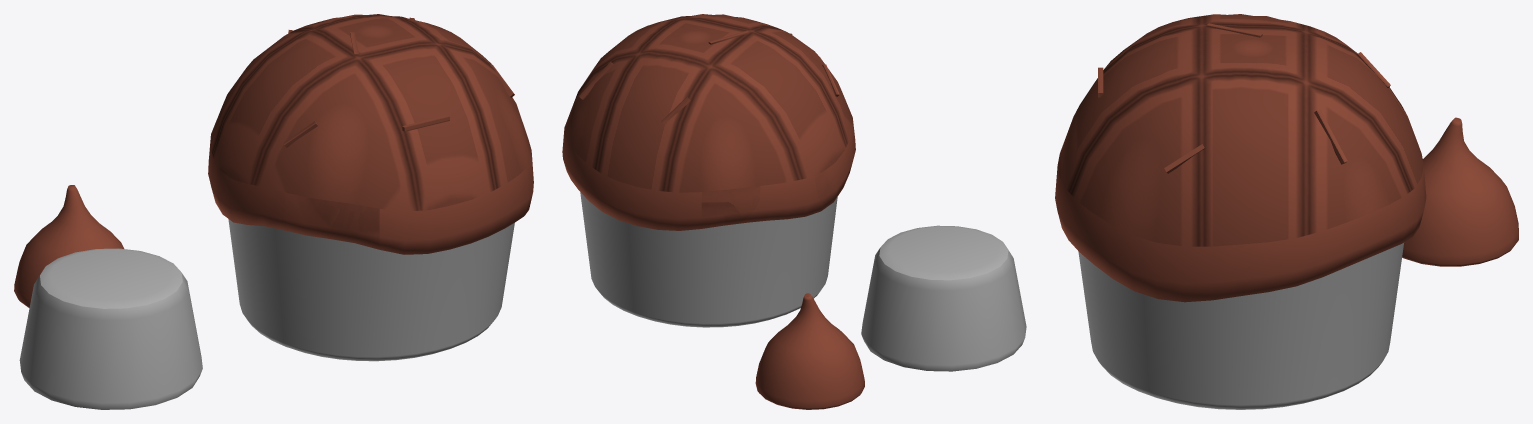
Rendered from muffins.fbx.
The picture shows the model from 3 angles, left to right: view 1: azimuth 30°, elevation 25°; view 2: azimuth 150°, elevation 25°; view 3: azimuth 270°, elevation 25°; orthographic projection. The views are drawn at different scales.
Visible parts, largest first — view 1: pCylinder32, pCylinder10, pCylinder33; view 2: pCylinder32, pCylinder10, pCylinder33; view 3: pCylinder32, pCylinder33.
Boxes of the visible parts, x1,y1,x2,y2 form: pCylinder32: [208, 14, 533, 361]; pCylinder10: [19, 248, 202, 409]; pCylinder33: [14, 185, 124, 307]; pCylinder32: [562, 14, 855, 327]; pCylinder10: [861, 225, 1026, 371]; pCylinder33: [755, 293, 864, 409]; pCylinder32: [1055, 14, 1426, 409]; pCylinder33: [1402, 117, 1518, 266].
Size of the model in its own units: 49.73 by 27.31 by 36.51.
